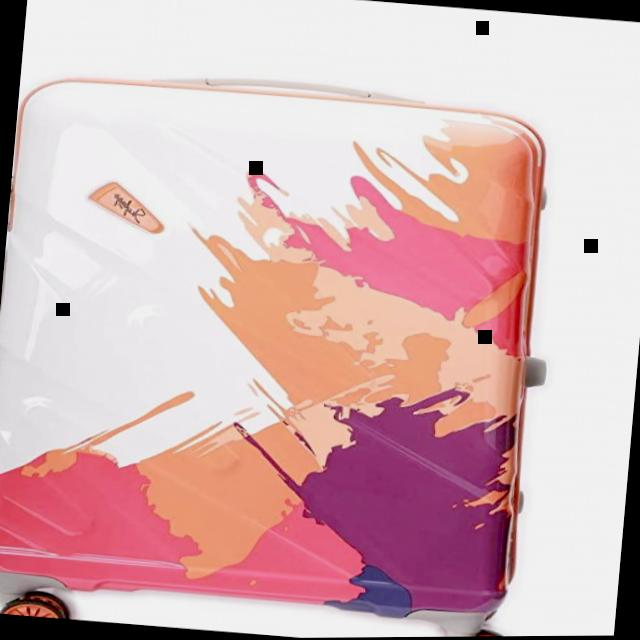luggage: (0, 43, 574, 640)
